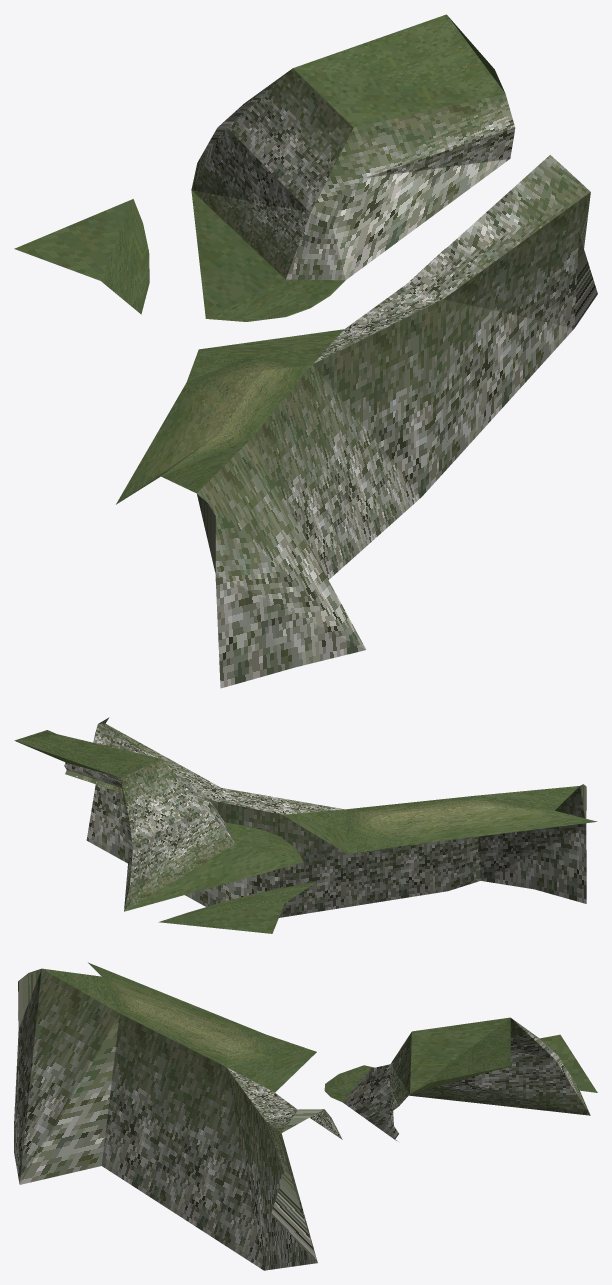
The model's file is lodcunteground34.obj.
3 renders of one model, top to bottom at view 1: azimuth 30°, elevation 25°; view 2: azimuth 150°, elevation 25°; view 3: azimuth 270°, elevation 25°, orthographic. The views are drawn at different scales.
Parts seen in each view (by area): view 1: LODcuntEground34; view 2: LODcuntEground34; view 3: LODcuntEground34.
Part boxes in pixels (left/top/right/bottom): LODcuntEground34: left=14, top=14, right=597, bottom=688; LODcuntEground34: left=14, top=717, right=597, bottom=933; LODcuntEground34: left=14, top=962, right=597, bottom=1270.
Bounding box in the file's own units: 245 × 130 × 250.
Materials: 4 (4 with a texture image).
